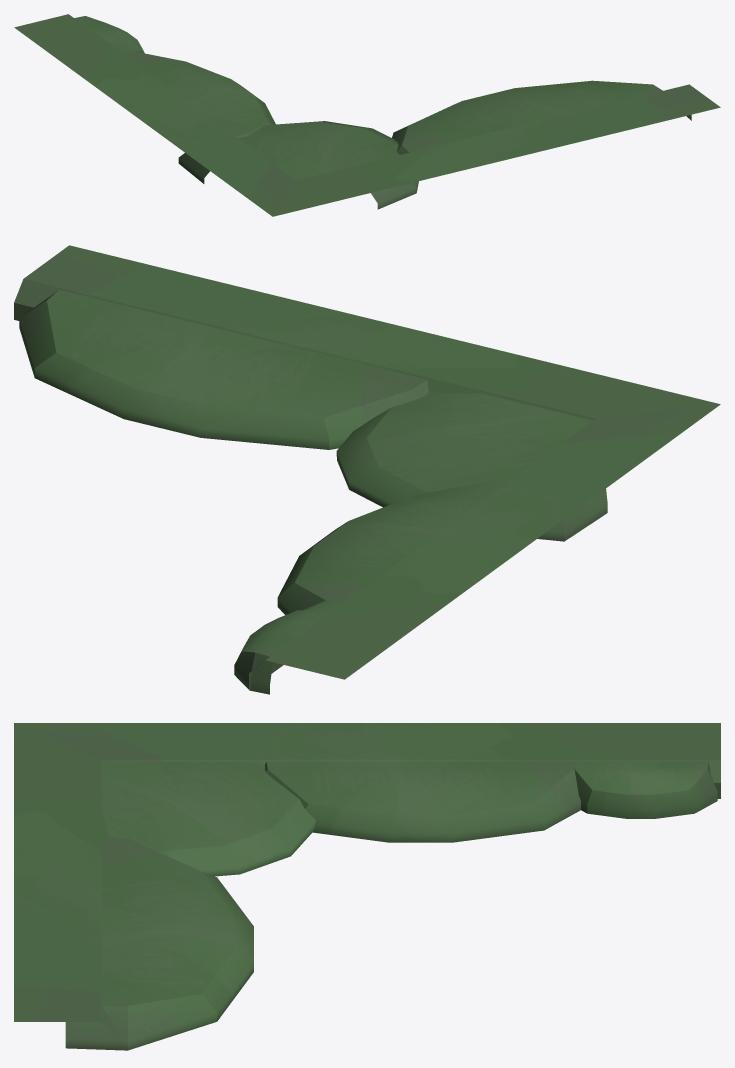
Rendered from GrassFlatCorner.fbx.
3 renders of one model, top to bottom at view 1: azimuth 30°, elevation 25°; view 2: azimuth 150°, elevation 25°; view 3: azimuth 270°, elevation 25°, orthographic. The views are drawn at different scales.
Parts seen in each view (by area): view 1: Corner; view 2: Corner; view 3: Corner.
Part boxes in pixels (bbox=[...]): Corner: bbox=[14, 14, 720, 216]; Corner: bbox=[14, 245, 720, 694]; Corner: bbox=[14, 723, 720, 1050].
Bounding box in the file's own units: 200 × 10.49 × 200.
